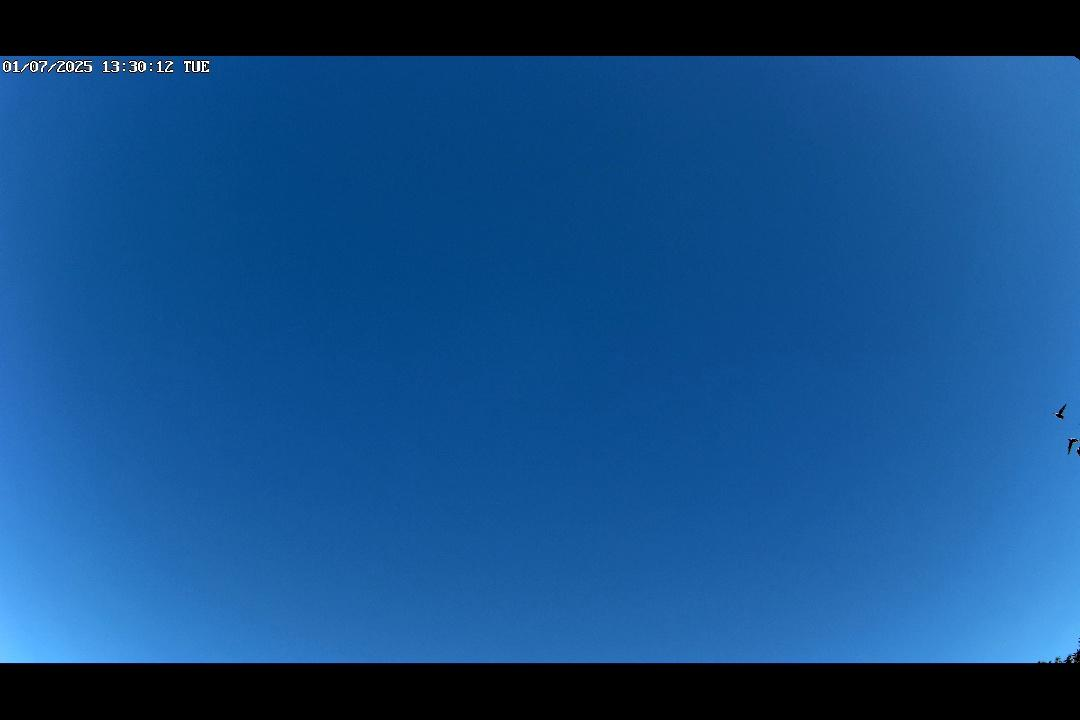WildLife: (1046, 402, 1072, 423), (1060, 433, 1077, 456), (1073, 442, 1080, 462)
